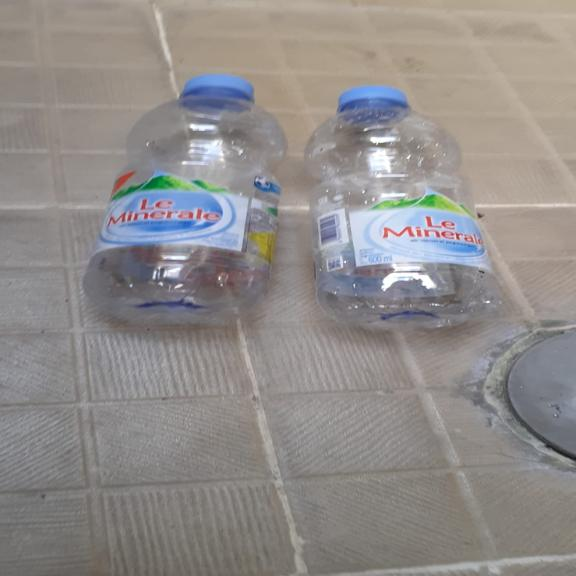Plastik: (80, 70, 288, 327), (304, 84, 502, 335)
